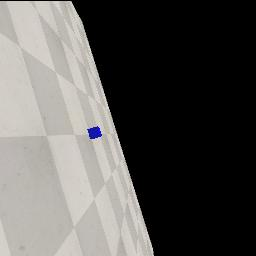box: (87, 126, 102, 139)
